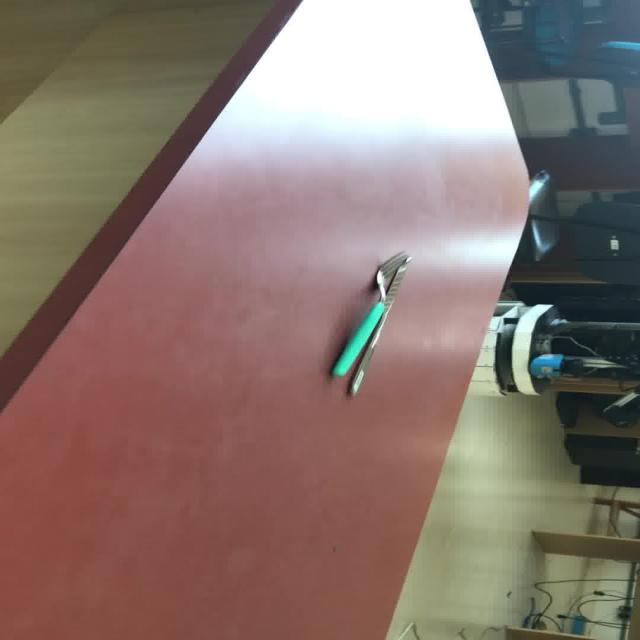knife fork: (333, 250, 412, 396)
